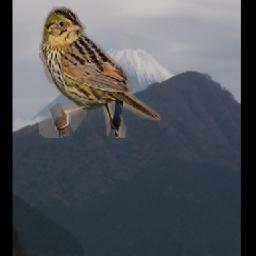Sparrow: (39, 7, 161, 139)
